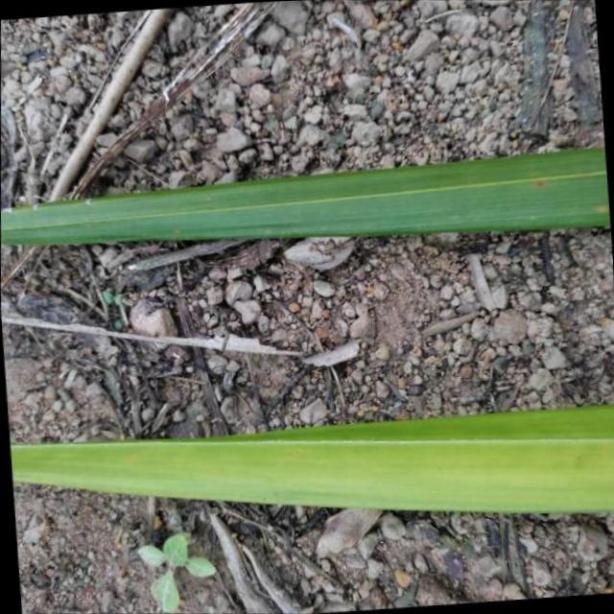nitrogen: (6, 144, 614, 261), (0, 398, 614, 512)
